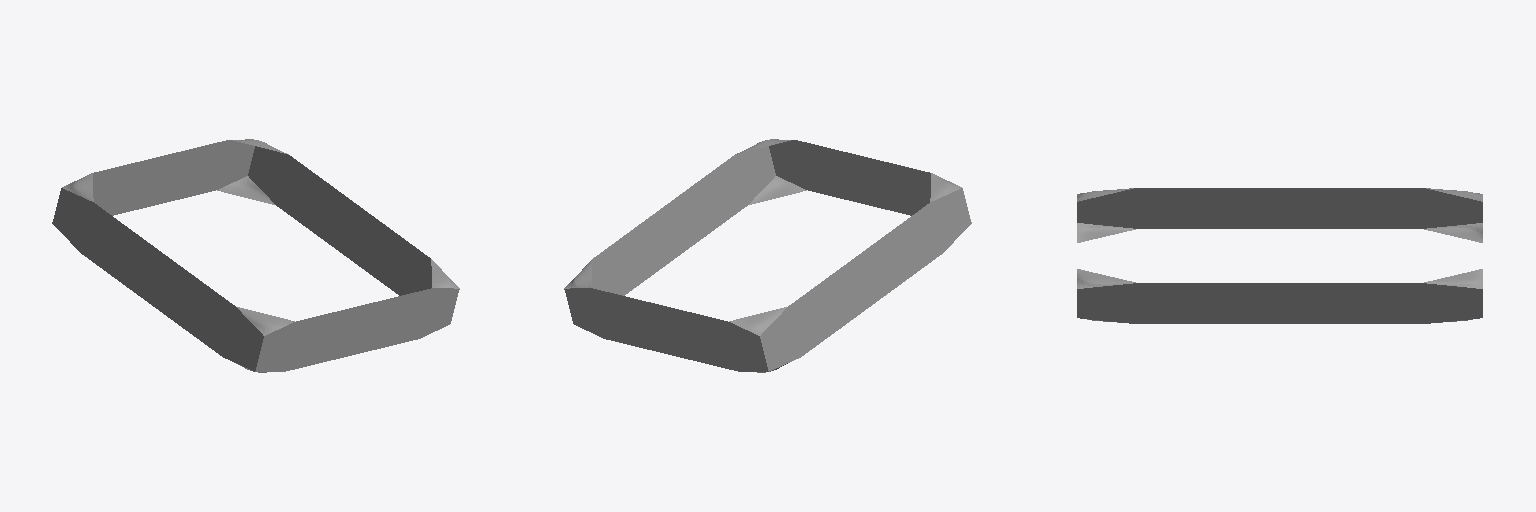
The model's file is BoardsTry1.obj.
The picture shows the model from 3 angles: view 1: azimuth 30°, elevation 25°; view 2: azimuth 150°, elevation 25°; view 3: azimuth 270°, elevation 25°; orthographic projection.
Visible parts, largest first — view 1: Cube; view 2: Cube; view 3: Cube.
Part boxes in pixels (x1,y1,x2,y2): Cube: (52, 139, 459, 372); Cube: (564, 139, 971, 372); Cube: (1077, 188, 1482, 323).
Size of the model in its own units: 9.13 by 2 by 15.4.